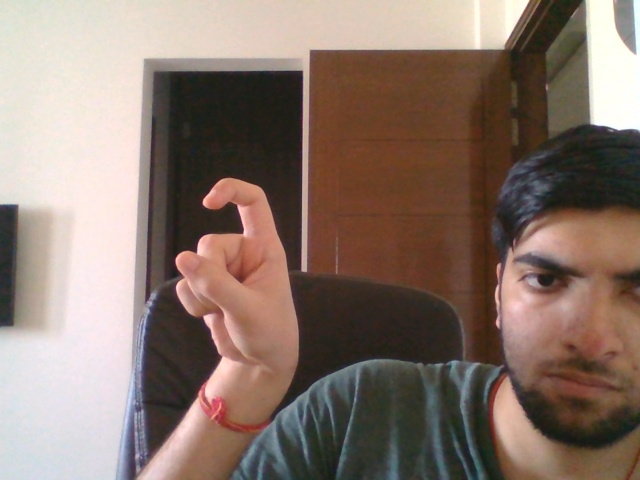LetterZ: (170, 173, 305, 373)
